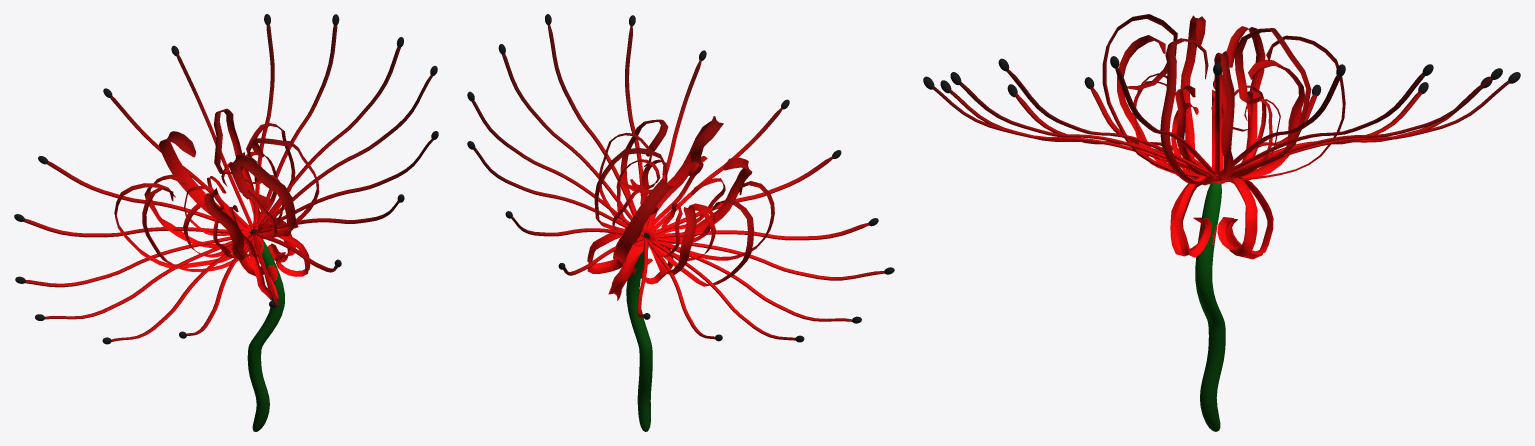
Rendered from MainFlower.001.fbx.
3 renders of one model, left to right at view 1: azimuth 30°, elevation 25°; view 2: azimuth 150°, elevation 25°; view 3: azimuth 270°, elevation 25°, orthographic. The views are drawn at different scales.
Parts seen in each view (by area): view 1: MainFlower.001; view 2: MainFlower.001; view 3: MainFlower.001.
Part boxes in pixels (x1,y1,x2,y2): MainFlower.001: [14, 14, 438, 431]; MainFlower.001: [467, 14, 894, 431]; MainFlower.001: [923, 14, 1520, 431].
Bounding box in the file's own units: 68.85 × 64.51 × 75.5.
